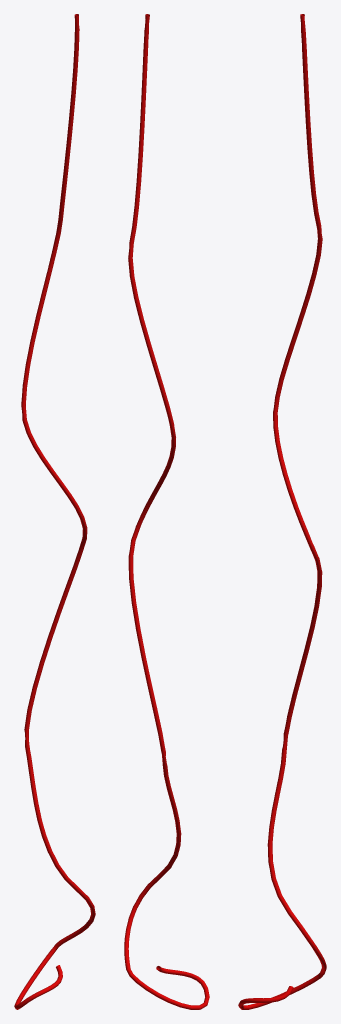
The model's file is Attic_Cable_01_LP_Splines_15.glb.
3 renders of one model, left to right at view 1: azimuth 30°, elevation 25°; view 2: azimuth 150°, elevation 25°; view 3: azimuth 330°, elevation 25°, orthographic. The views are drawn at different scales.
Visible parts, largest first — view 1: Attic_Cable_01_LP_Splines_15; view 2: Attic_Cable_01_LP_Splines_15; view 3: Attic_Cable_01_LP_Splines_15.
Part boxes in pixels (box(x1,y1,x2,y2)): Attic_Cable_01_LP_Splines_15: box(14, 14, 95, 1009); Attic_Cable_01_LP_Splines_15: box(124, 14, 209, 1009); Attic_Cable_01_LP_Splines_15: box(238, 14, 326, 1009).
Size of the model in its own units: 0.1654 by 1.98 by 0.1064.
